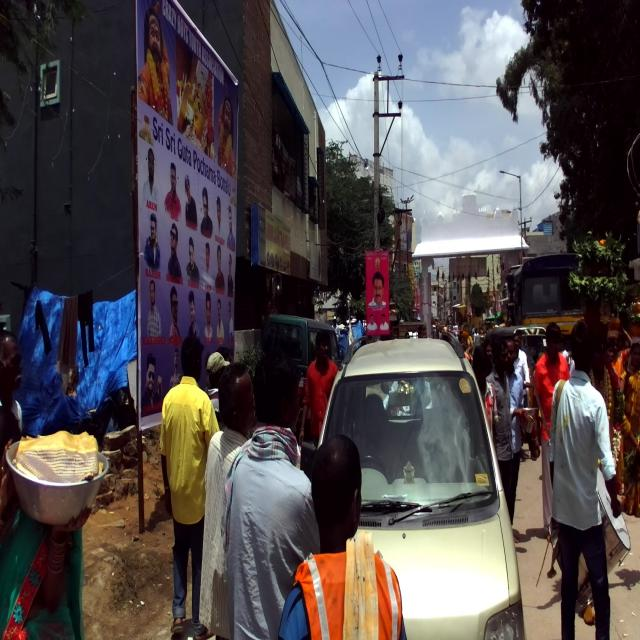Car_Maruti-Suzuki: (315, 332, 524, 639)
